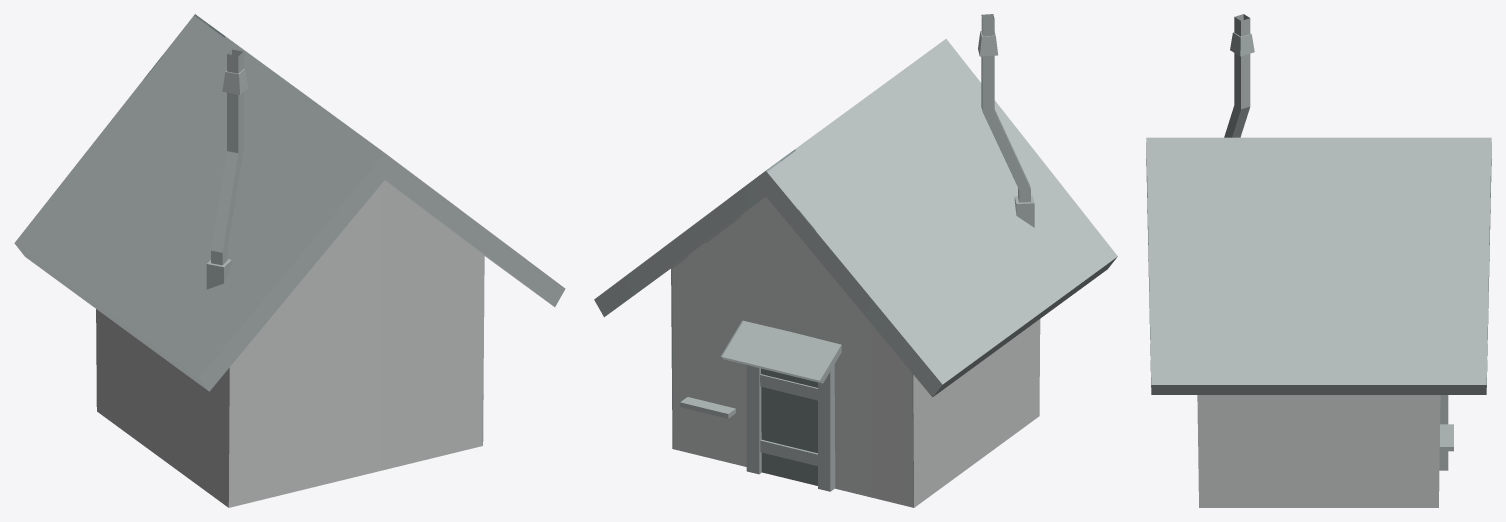
File: 鄉間小屋_4.fbx
The picture shows the model from 3 angles, left to right: view 1: azimuth 30°, elevation 25°; view 2: azimuth 150°, elevation 25°; view 3: azimuth 270°, elevation 25°; orthographic projection. The views are drawn at different scales.
Parts seen in each view (by area): view 1: pCube7; view 2: pCube7; view 3: pCube7.
Boxes of the visible parts, x1,y1,x2,y2 form: pCube7: (14, 14, 565, 507); pCube7: (594, 14, 1117, 507); pCube7: (1146, 14, 1491, 507).
Bounding box in the file's own units: 22.14 × 24.82 × 19.85.
